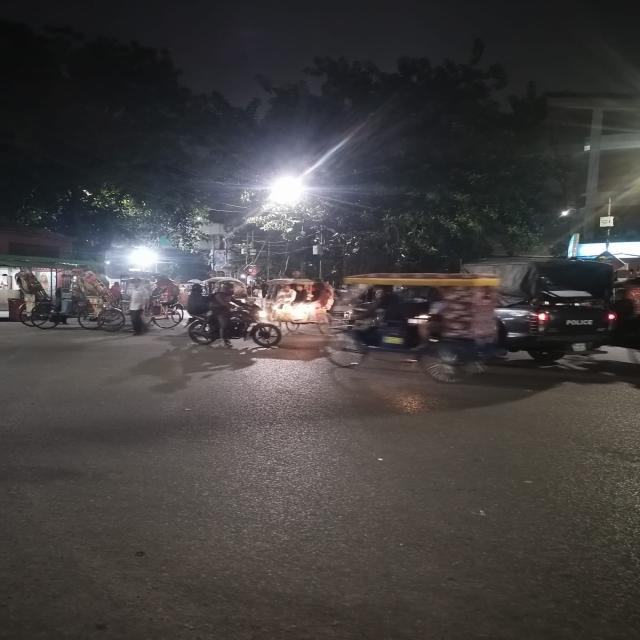person: (128, 278, 148, 337)
